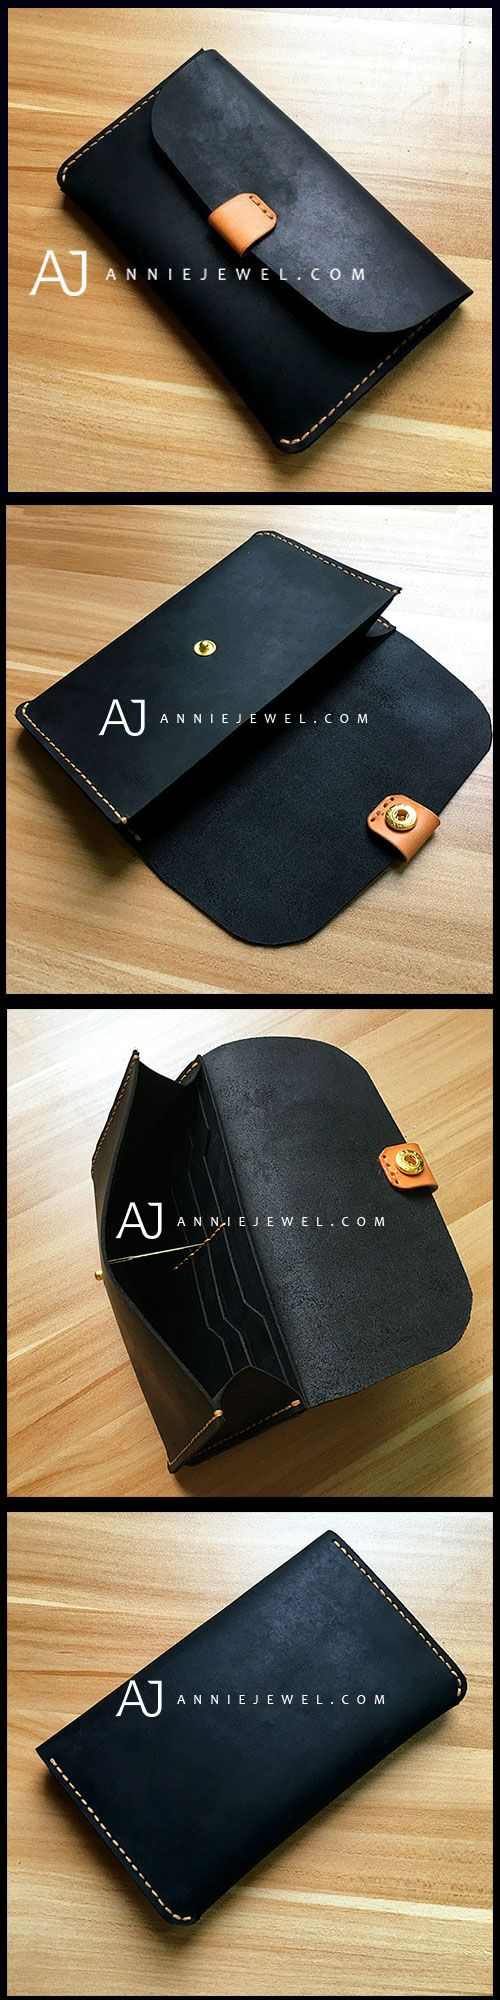cuero: (17, 48, 476, 1934)
